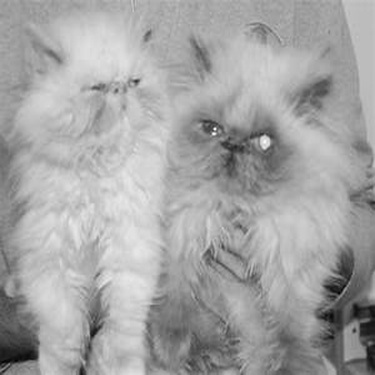cat: (142, 27, 360, 368), (1, 16, 176, 369)
